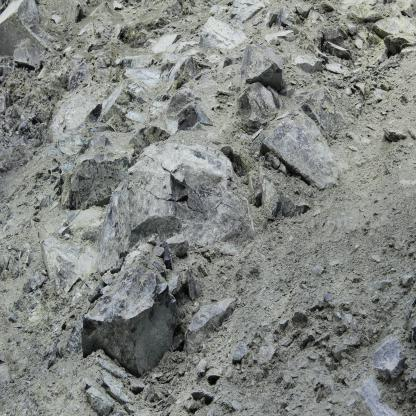stone: (183, 297, 235, 352), (240, 43, 284, 88), (237, 82, 276, 128), (372, 335, 406, 382), (167, 233, 188, 256), (186, 269, 201, 299), (322, 42, 349, 58), (266, 86, 280, 109), (232, 342, 247, 363), (325, 63, 344, 75), (130, 377, 145, 392), (101, 270, 113, 284), (88, 290, 100, 302), (377, 51, 388, 63), (355, 82, 365, 95), (153, 247, 164, 257), (356, 38, 363, 49), (387, 63, 398, 69), (345, 87, 352, 96), (147, 238, 156, 244), (350, 76, 358, 82), (371, 80, 377, 87), (350, 86, 355, 94), (380, 83, 385, 90), (363, 71, 370, 75), (370, 85, 375, 90)
